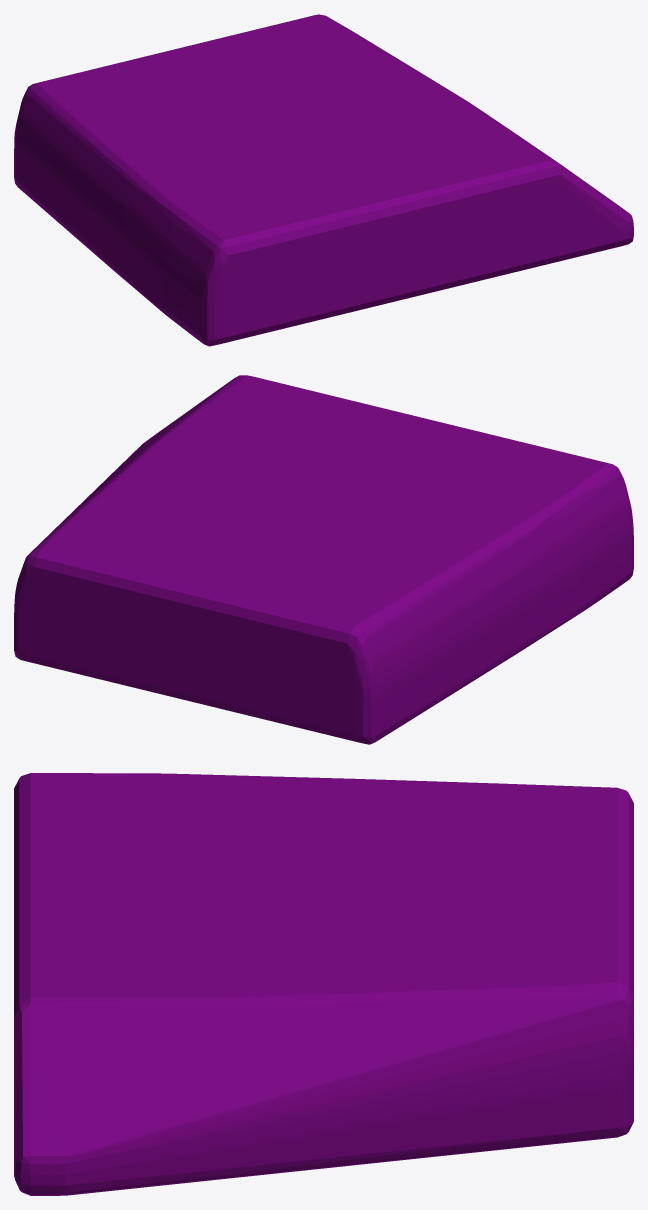
File: right_shoulder_yaw_link_part_11.obj
3 renders of one model, top to bottom at view 1: azimuth 30°, elevation 25°; view 2: azimuth 150°, elevation 25°; view 3: azimuth 270°, elevation 25°, orthographic. The views are drawn at different scales.
Bounding box in the file's own units: 0.0713 × 0.0163 × 0.0628.
